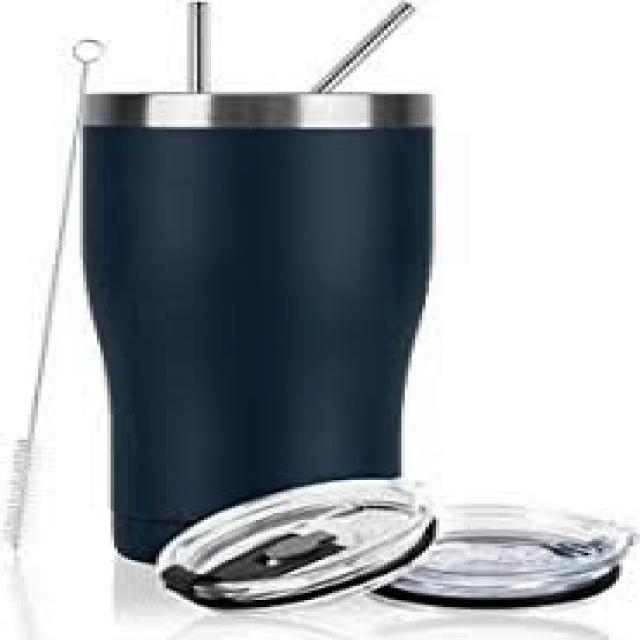bottle: (79, 91, 433, 564)
